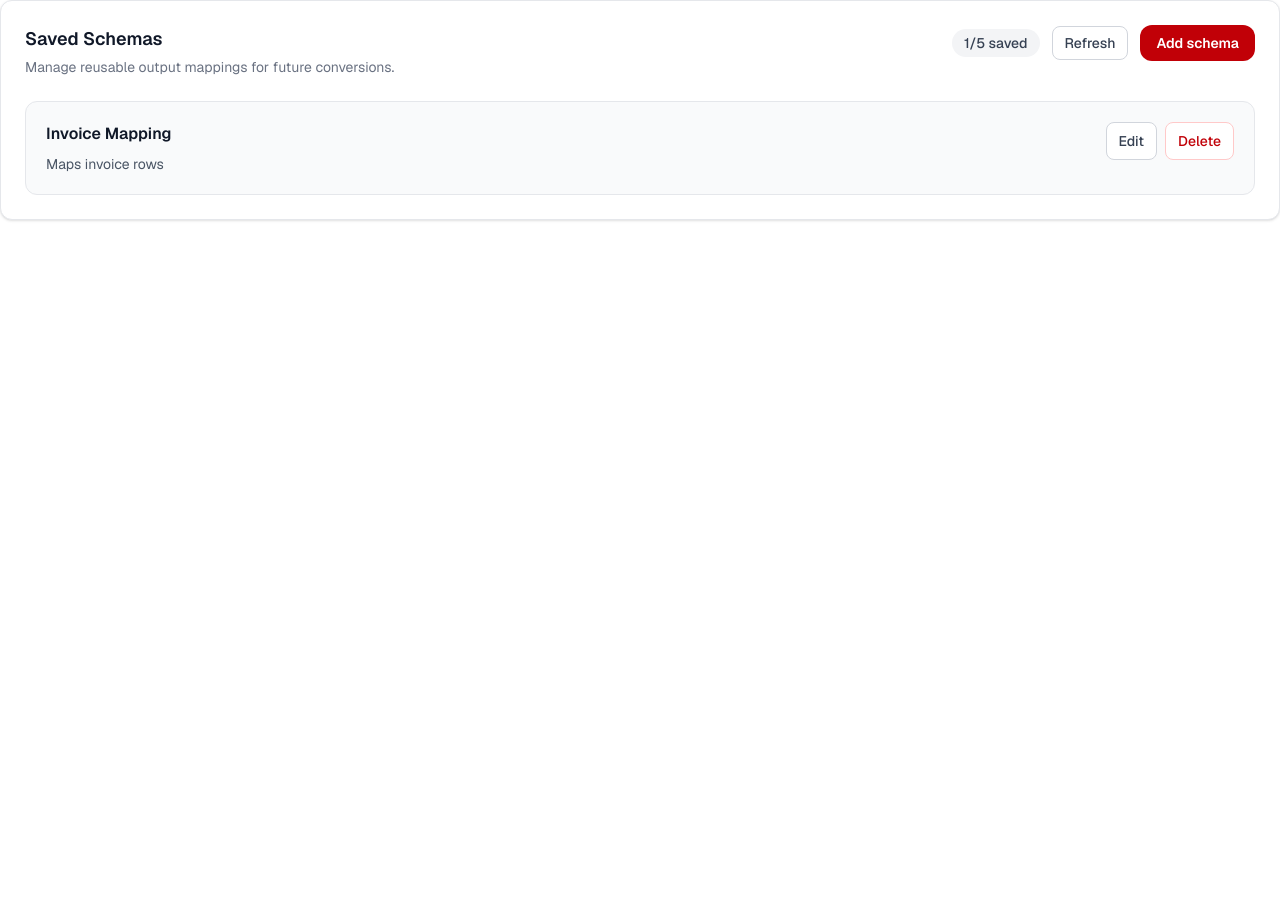
it: CustomSchemaManager › deletes an existing schema from the rendered list
Expected: the heading "Invoice Mapping" is shown, [46,122,172,146]
Click the button "Delete". click: [1199, 141]
box: [1165,122,1234,160]
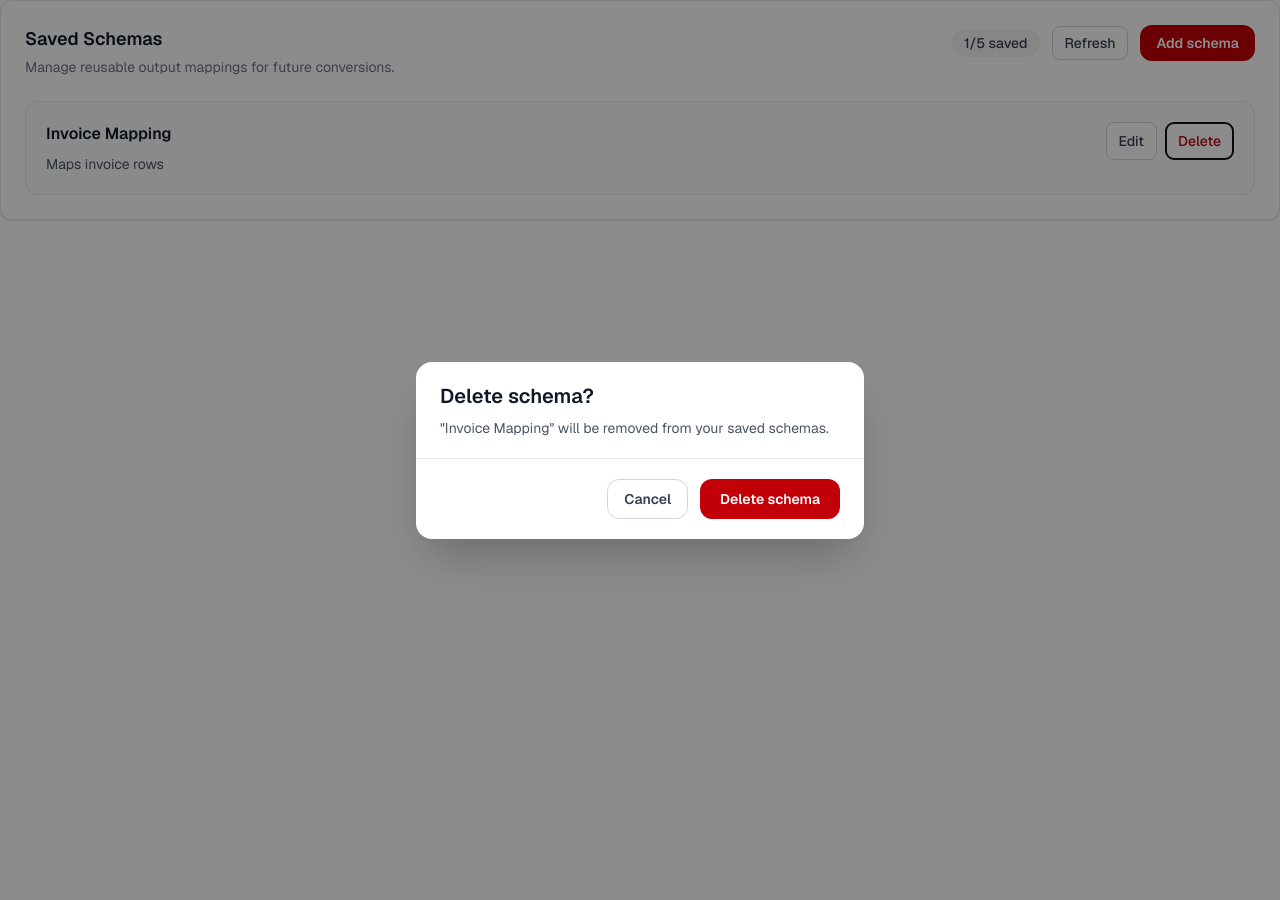
Now the dialog "Delete schema" is shown
Click the button with test id "confirm-delete-schema-btn". click: [770, 498]
box: [700,478,840,518]
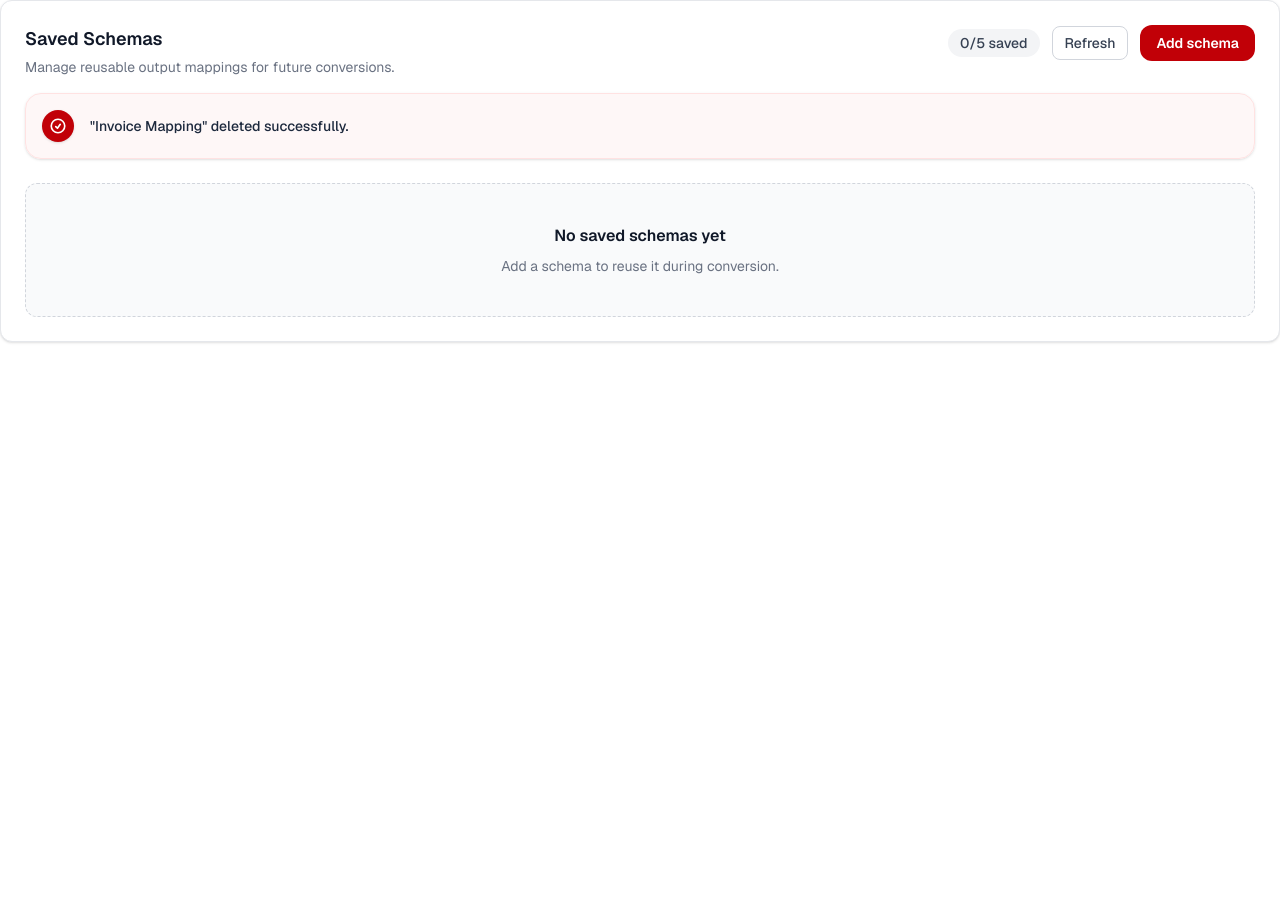
Now the text "\"Invoice Mapping\" deleted successfully." is shown, box [90,115,349,137]
